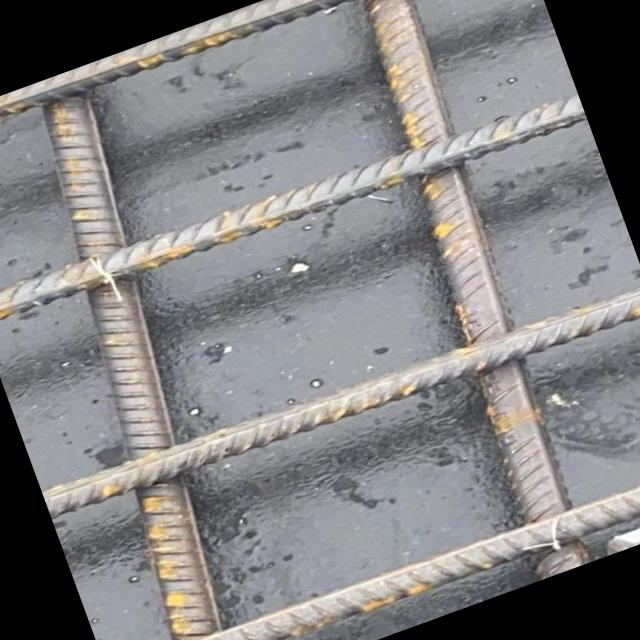ribbed bar: (317, 0, 620, 581), (0, 89, 299, 640), (42, 269, 640, 531), (0, 79, 588, 339), (106, 448, 640, 640), (0, 0, 523, 161)
